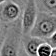cell: (13, 34, 23, 47), (39, 26, 49, 38), (33, 48, 47, 56), (28, 18, 39, 28), (39, 8, 49, 18)
